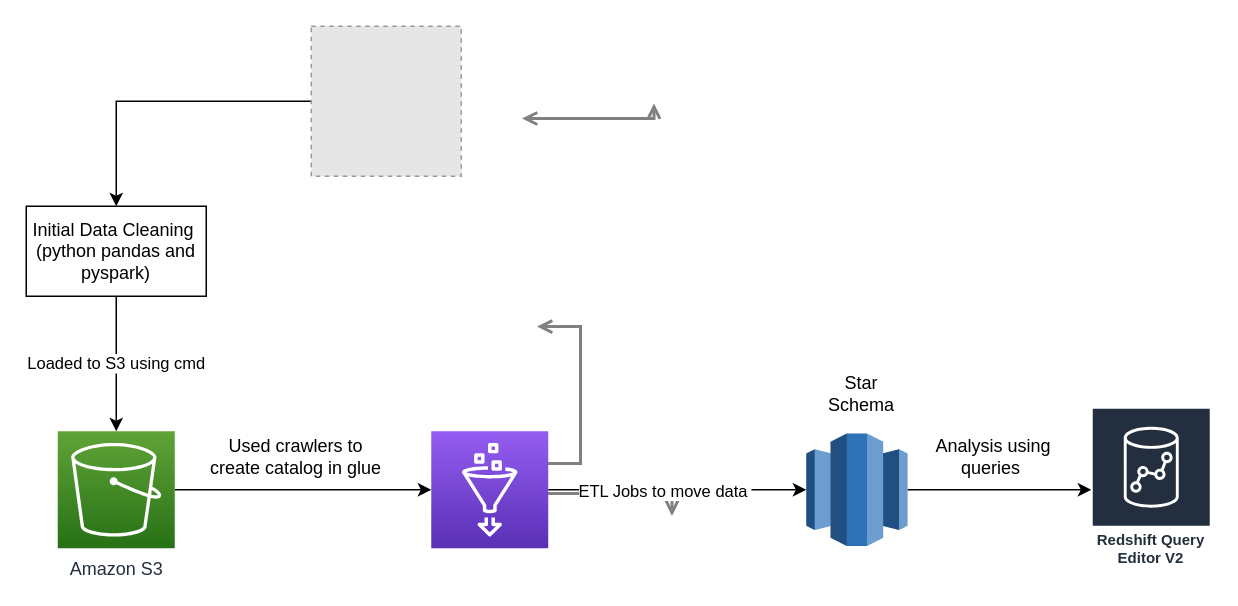
Some shapes in this 1238 by 606 pixel diagram are drawn without their labels. Grey dashed boxes stand in for pictures. The shapes that lost their labels are listed below. From the top down, each one's box as (x1, y1, x2, y2) in pixels, then its label:
(430, 430, 548, 548): AWS Glue
(805, 432, 908, 546): Redshift
